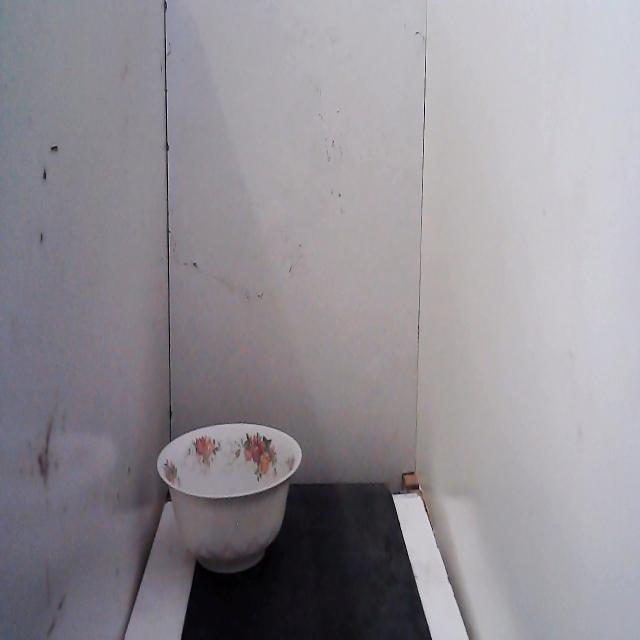plastico: (152, 410, 306, 586)
